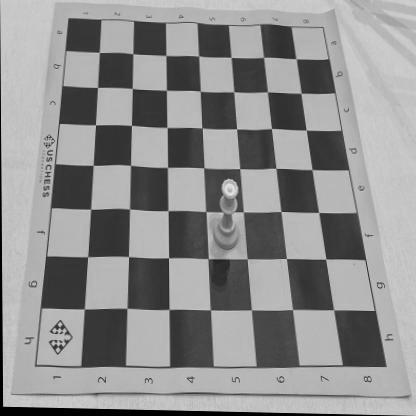white-queen: (212, 178, 240, 251)
